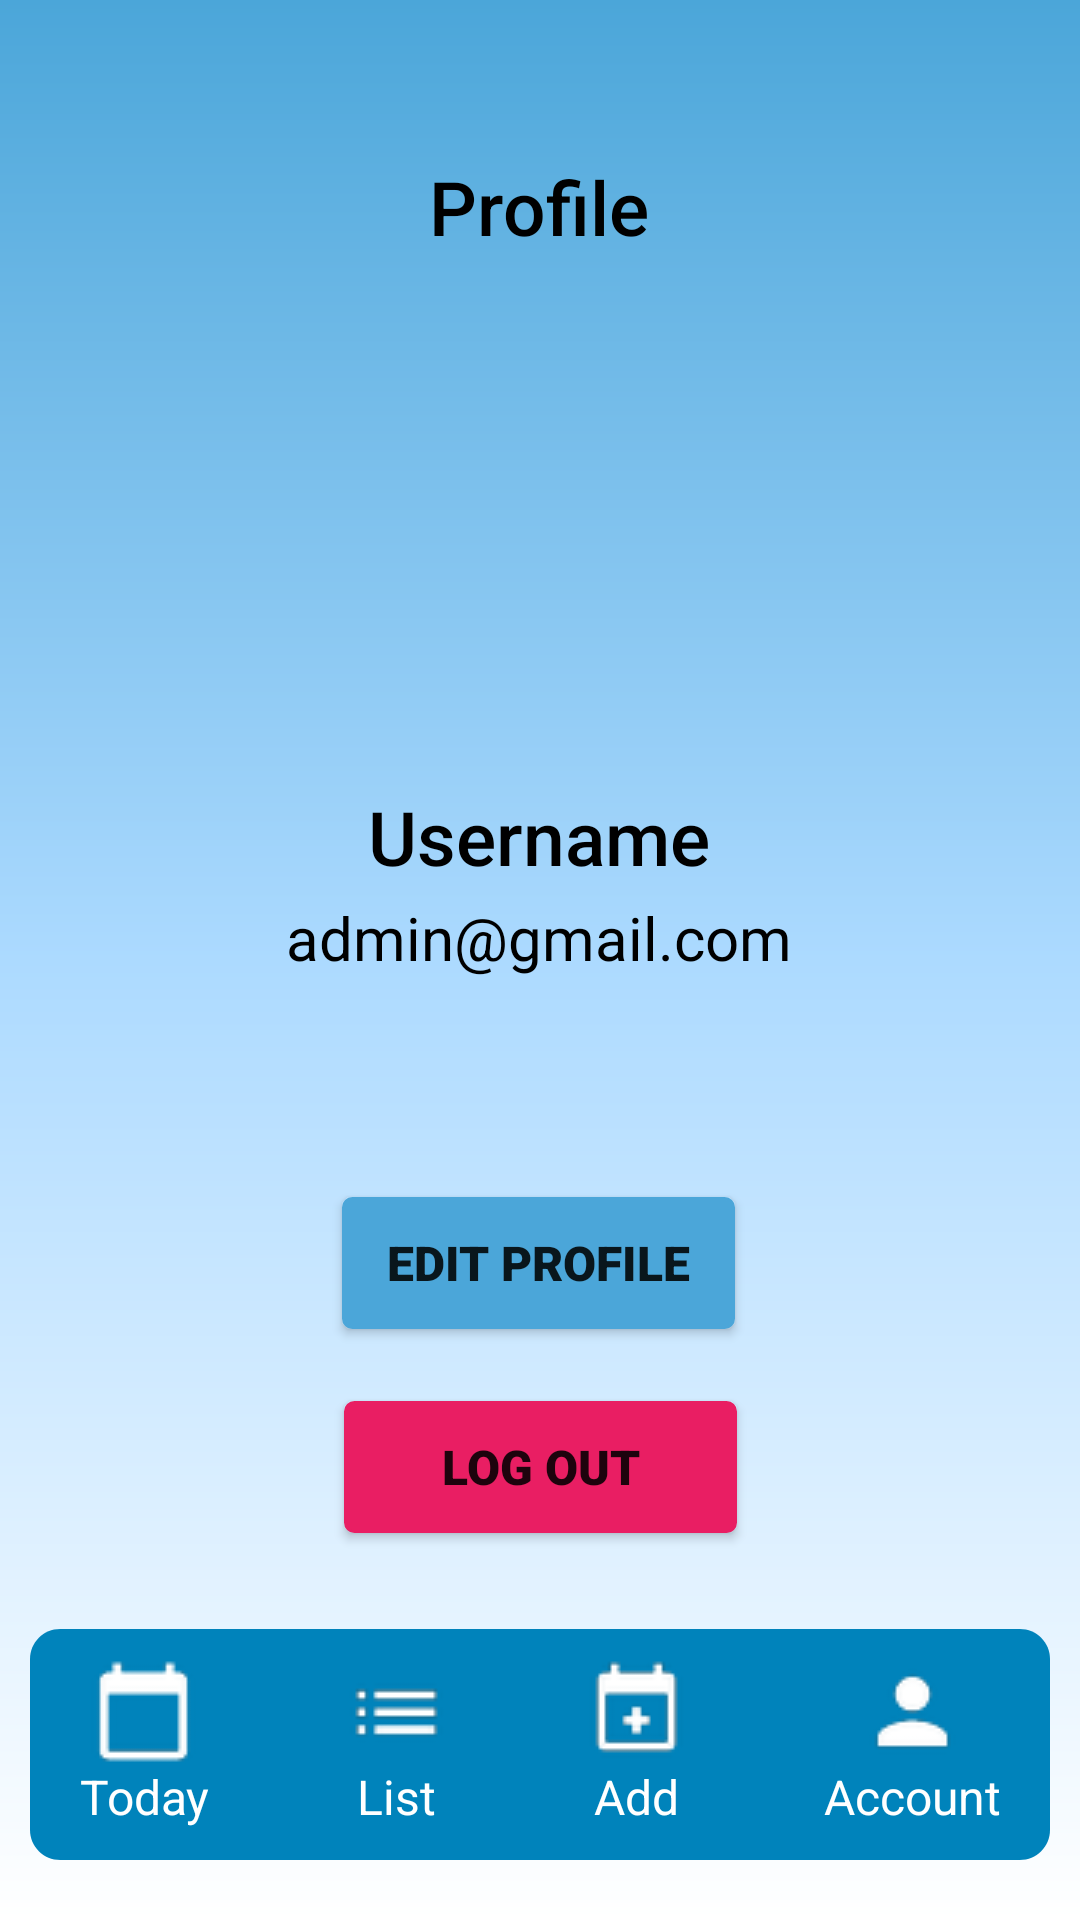

Named icons in this screenshot (1080px x 1920px) and their centers, point (x, y):
options calendar: point (143, 1711)
